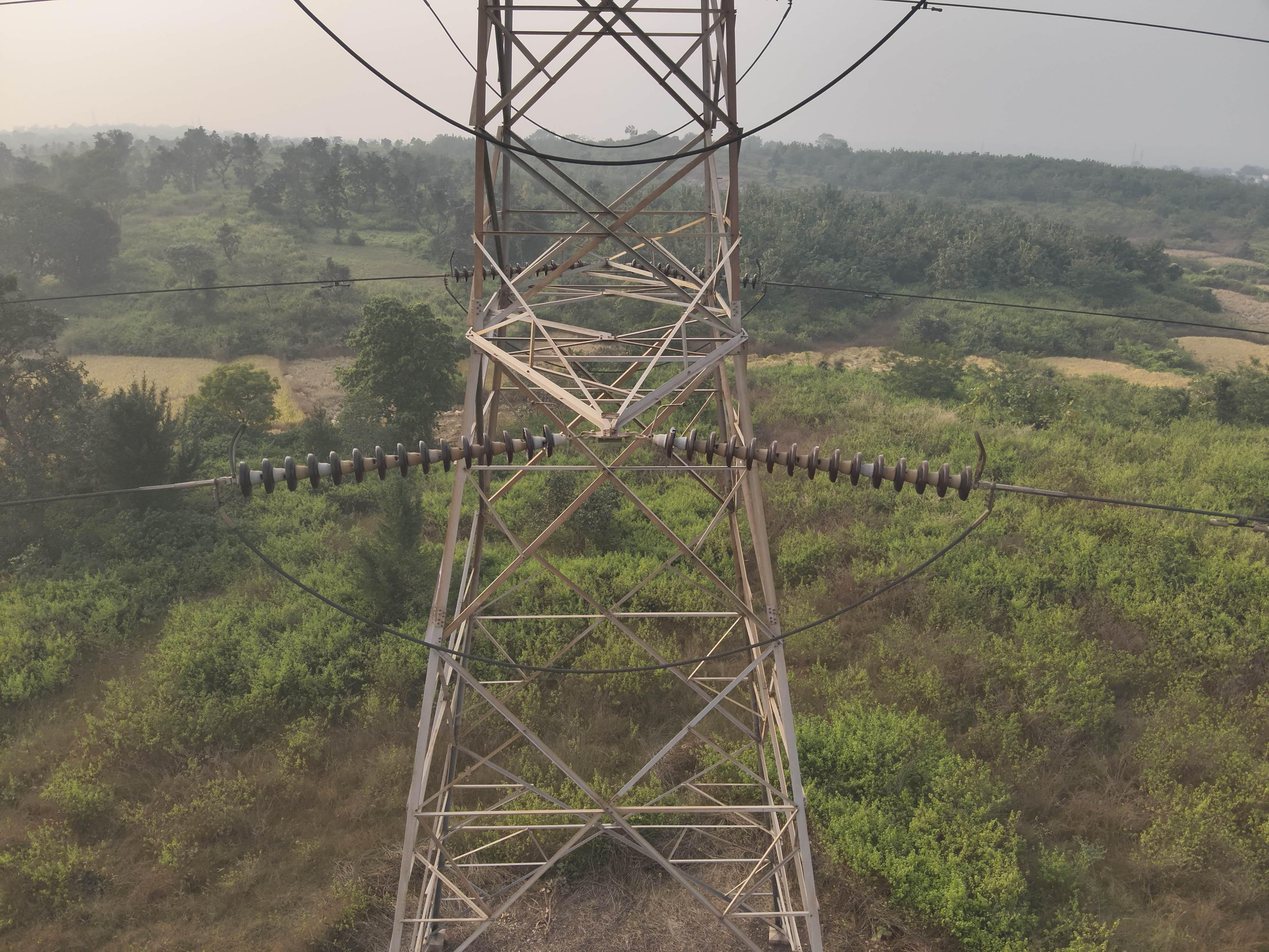broken_insulator: (663, 421, 681, 462)
